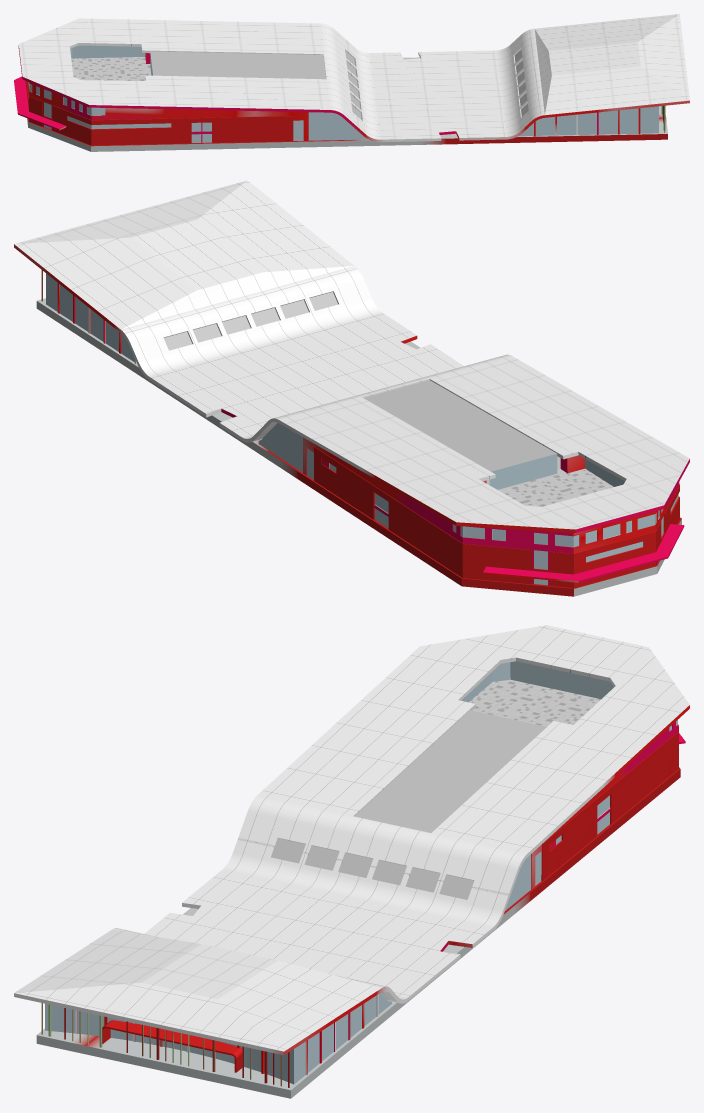
The model's file is MODEL_HUB.fbx.
3 views of the same model, one above another, from view 1: azimuth 30°, elevation 25°; view 2: azimuth 150°, elevation 25°; view 3: azimuth 270°, elevation 25° (orthographic). The views are drawn at different scales.
Parts seen in each view (by area): view 1: SM_TH_; view 2: SM_TH_; view 3: SM_TH_.
Part boxes in pixels (x1,y1,x2,y2): SM_TH_: [14, 14, 689, 151]; SM_TH_: [14, 180, 689, 596]; SM_TH_: [14, 625, 689, 1098].
Bounding box in the file's own units: 18091 × 1574 × 12512.
